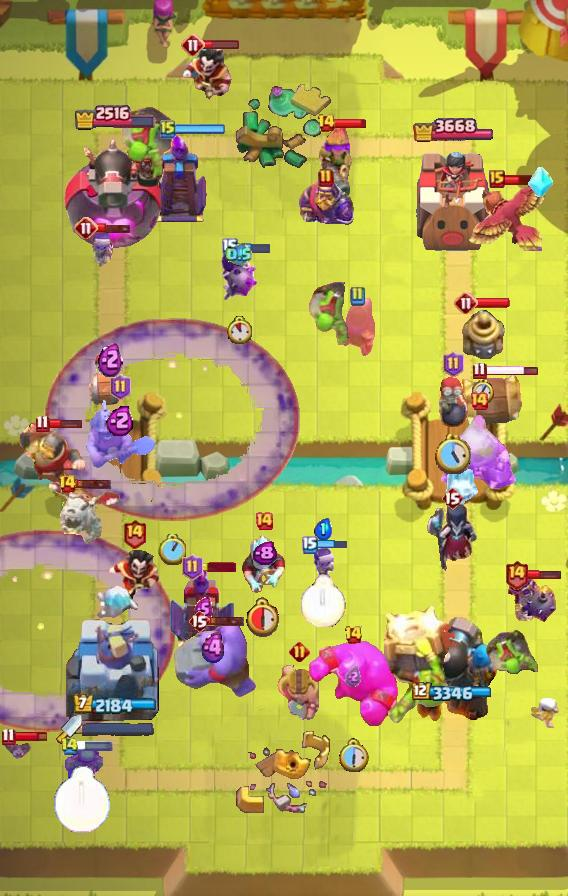bar: (484, 364, 539, 377), (174, 124, 225, 134), (503, 173, 540, 186), (13, 730, 48, 743), (236, 241, 271, 254), (208, 615, 245, 627), (75, 478, 112, 490), (475, 297, 511, 309), (96, 222, 132, 234), (203, 39, 240, 50), (527, 569, 562, 580), (48, 418, 83, 429), (76, 741, 114, 751), (333, 118, 367, 129), (200, 562, 236, 572), (316, 539, 348, 550)
bar-level: (504, 559, 529, 590), (122, 518, 147, 549), (454, 291, 478, 315), (74, 216, 98, 240), (181, 33, 205, 57), (182, 554, 203, 580), (110, 374, 131, 400), (443, 351, 464, 377), (188, 609, 210, 633), (441, 486, 463, 510), (289, 641, 310, 662), (254, 511, 274, 531), (469, 391, 489, 411), (344, 625, 363, 645), (58, 474, 77, 494), (317, 113, 336, 133), (60, 737, 79, 756), (349, 286, 365, 306), (318, 168, 334, 188), (160, 119, 176, 139), (302, 536, 318, 554), (222, 238, 238, 256), (489, 170, 505, 188), (1, 727, 16, 746), (35, 414, 50, 433), (472, 361, 487, 380)
barbarian-barrel: (455, 374, 529, 426)
bat: (4, 737, 32, 761)
bomber: (436, 372, 470, 428)
bomber-evolution: (504, 571, 558, 627), (219, 245, 259, 303)
cannoneer-tower: (61, 132, 168, 256), (403, 615, 503, 731)
clock: (53, 766, 111, 834), (301, 575, 346, 627), (246, 596, 283, 637), (435, 434, 471, 474), (337, 738, 369, 773), (158, 534, 186, 565), (227, 316, 252, 344), (472, 379, 494, 404)
dagger-duchess-tower: (66, 611, 162, 731)
dagger-duchess-tower-bar: (82, 722, 154, 736)
electro-wizard: (106, 548, 162, 606), (180, 48, 232, 102)
elite-barbarian: (277, 665, 321, 723)
elixir: (199, 632, 229, 664), (106, 404, 135, 436), (98, 340, 123, 377), (252, 541, 277, 566), (226, 243, 252, 266), (194, 597, 213, 621), (314, 518, 332, 540), (345, 666, 361, 687)
goblin-ball: (119, 102, 179, 178), (307, 282, 357, 348), (484, 627, 542, 675)
ice-spirit: (437, 468, 481, 508), (94, 584, 140, 619)
ice-spirit-evolution-symbol: (527, 167, 553, 199)
ice-wizard: (240, 529, 288, 595)
knight: (19, 421, 85, 493)
knight-evolution: (298, 177, 354, 226)
miner: (85, 398, 156, 470)
musketeer: (316, 121, 358, 201), (339, 296, 375, 356)
night-witch: (424, 499, 480, 577)
queen-tower: (410, 145, 496, 256)
skeleton: (531, 696, 563, 728)
skeleton-evolution: (87, 232, 119, 272), (311, 546, 335, 582)
spear-goblin: (61, 747, 103, 787)
tower-bar: (413, 115, 493, 146), (73, 103, 156, 131), (72, 694, 156, 716), (412, 682, 494, 703)
wall-breaker: (85, 352, 135, 408)
zappy: (460, 307, 506, 359)
